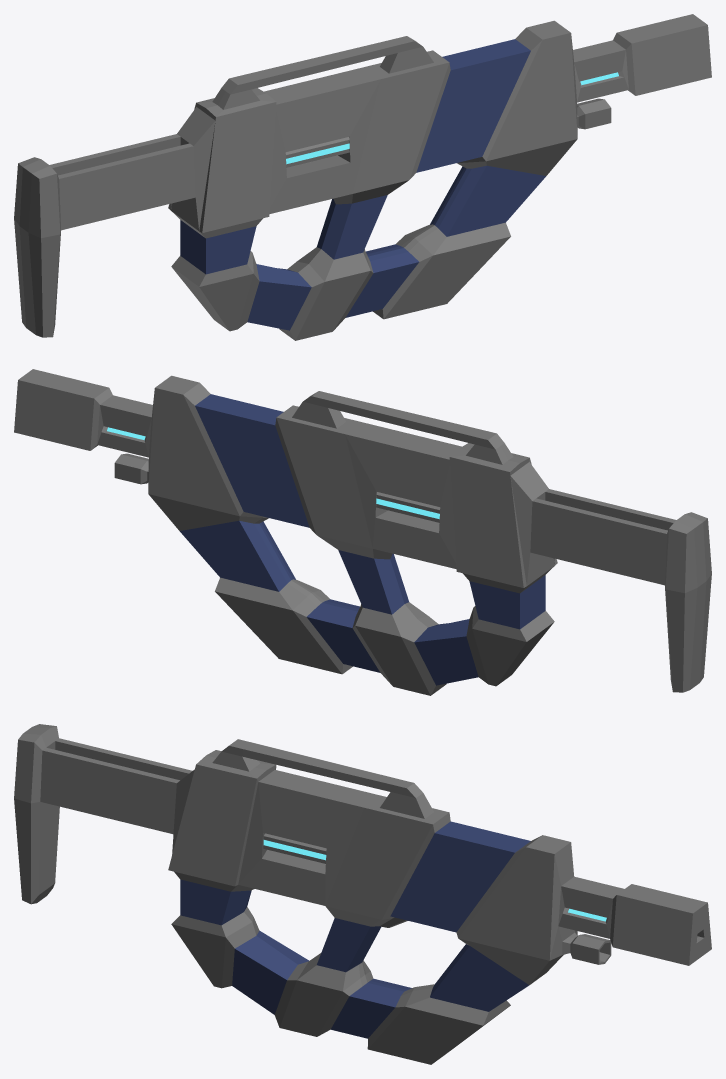
Rendered from SMG.glb.
3 views of the same model, one above another, from view 1: azimuth 30°, elevation 25°; view 2: azimuth 150°, elevation 25°; view 3: azimuth 330°, elevation 25° (orthographic).
Visible parts, largest first — view 1: SMG; view 2: SMG; view 3: SMG.
Part boxes in pixels (box(x1,y1,x2,y2)): SMG: box(14, 14, 711, 340); SMG: box(14, 369, 711, 695); SMG: box(14, 724, 711, 1064).
Size of the model in its own units: 0.6393 by 0.2407 by 0.0558.
